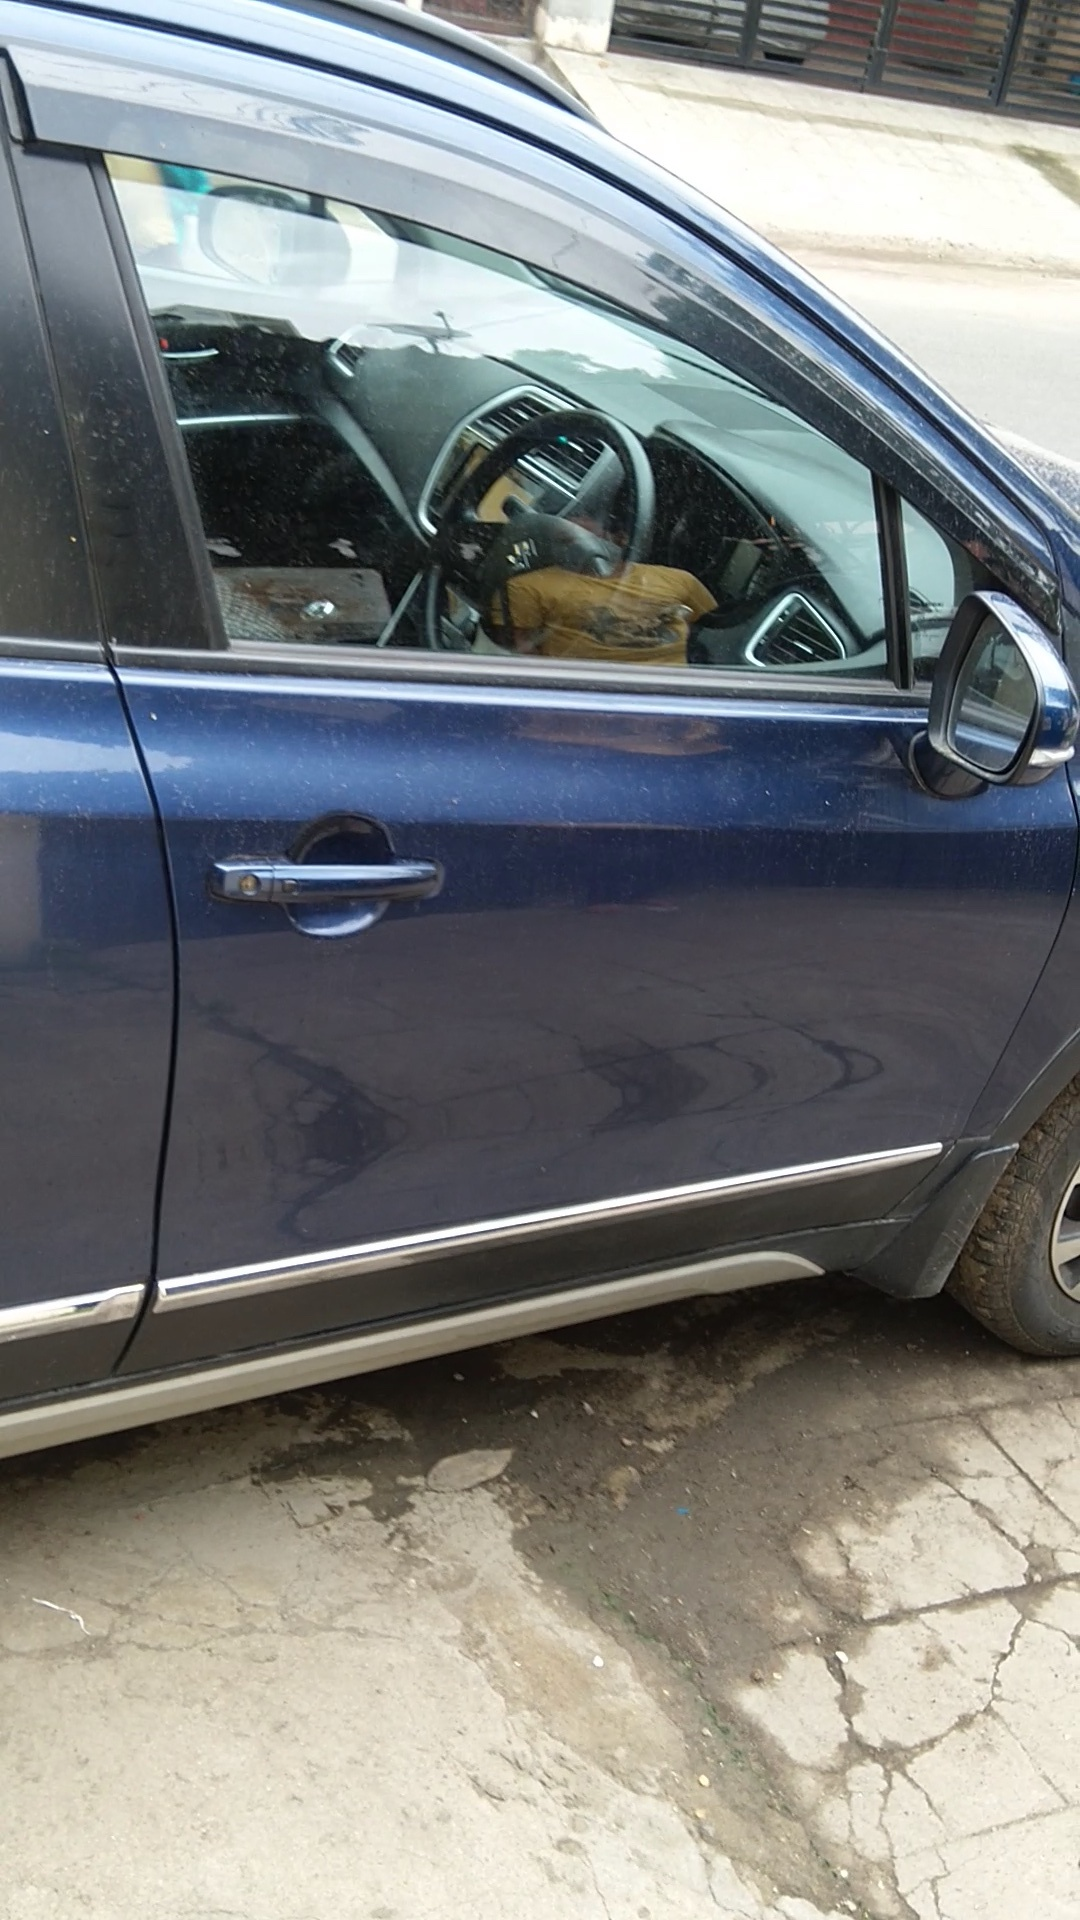ovr_mirror: (894, 582, 1080, 815)
